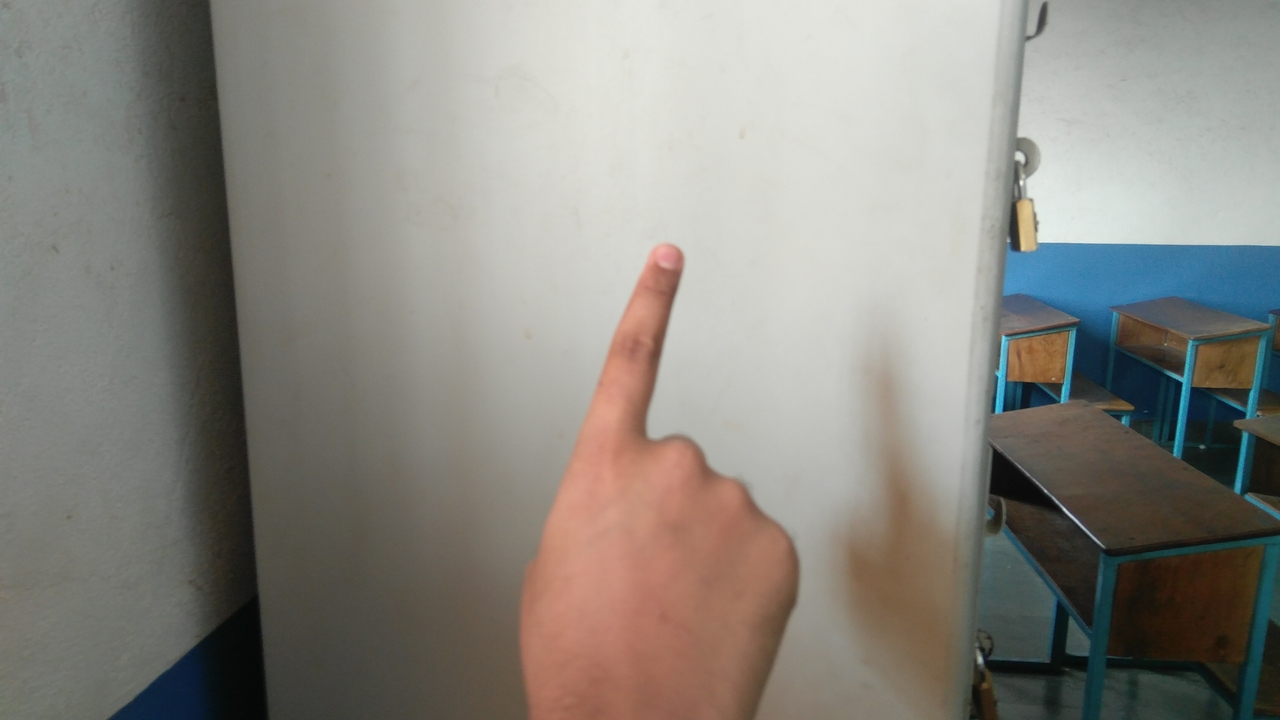fingertip: (630, 230, 692, 286)
